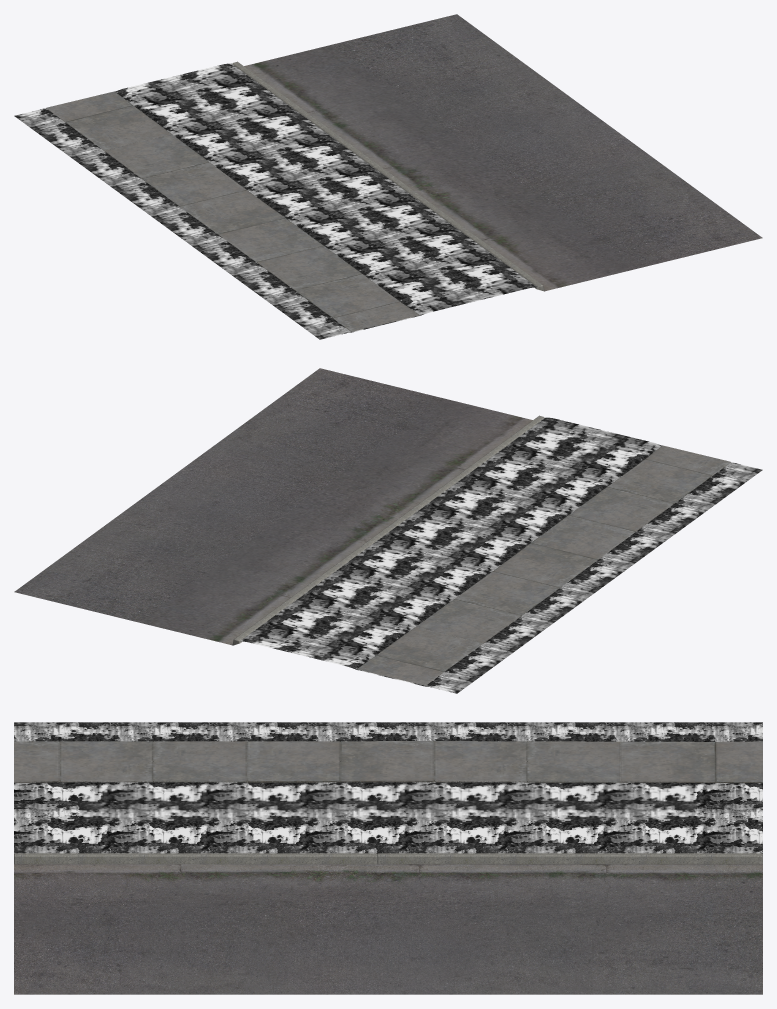
File: SM_Road_01_Left.fbx
3 views of the same model, one above another, from view 1: azimuth 30°, elevation 25°; view 2: azimuth 150°, elevation 25°; view 3: azimuth 270°, elevation 25° (orthographic). The views are drawn at different scales.
Parts seen in each view (by area): view 1: SM_Road_01_Left; view 2: SM_Road_01_Left; view 3: SM_Road_01_Left.
Part boxes in pixels (x1,y1,x2,y2): SM_Road_01_Left: [14, 14, 762, 339]; SM_Road_01_Left: [14, 368, 762, 693]; SM_Road_01_Left: [14, 722, 762, 994].
Size of the model in its own units: 778 by 930 by 12.66.
Materials: 4 (4 with a texture image).
